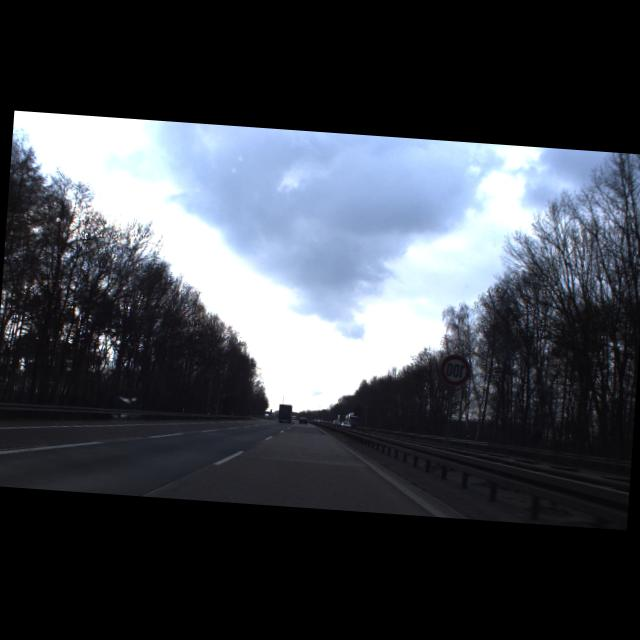prohibitory: (438, 352, 472, 387)
